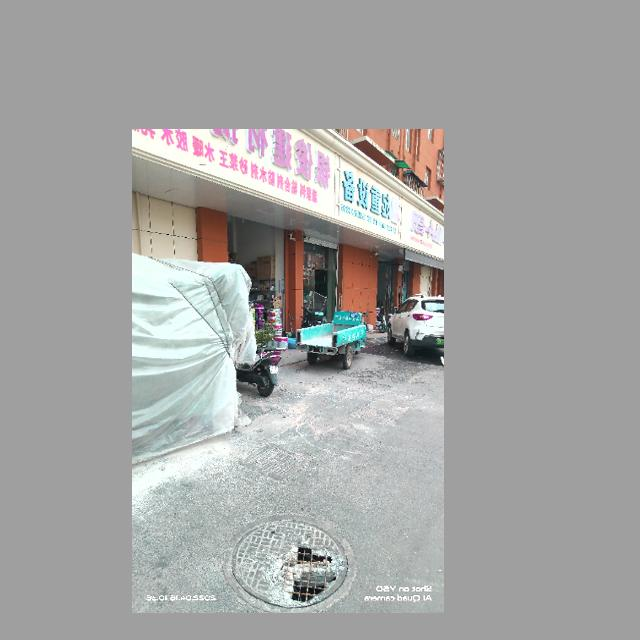broke: (224, 514, 357, 612)
